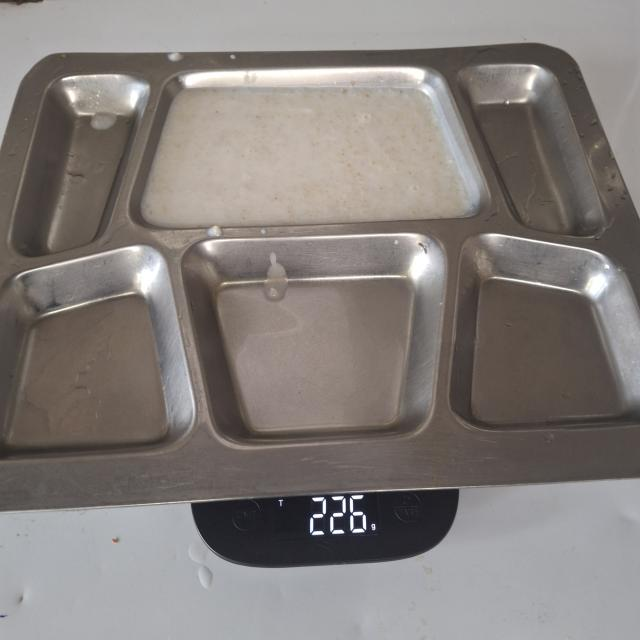Porridge: (135, 80, 479, 228)
